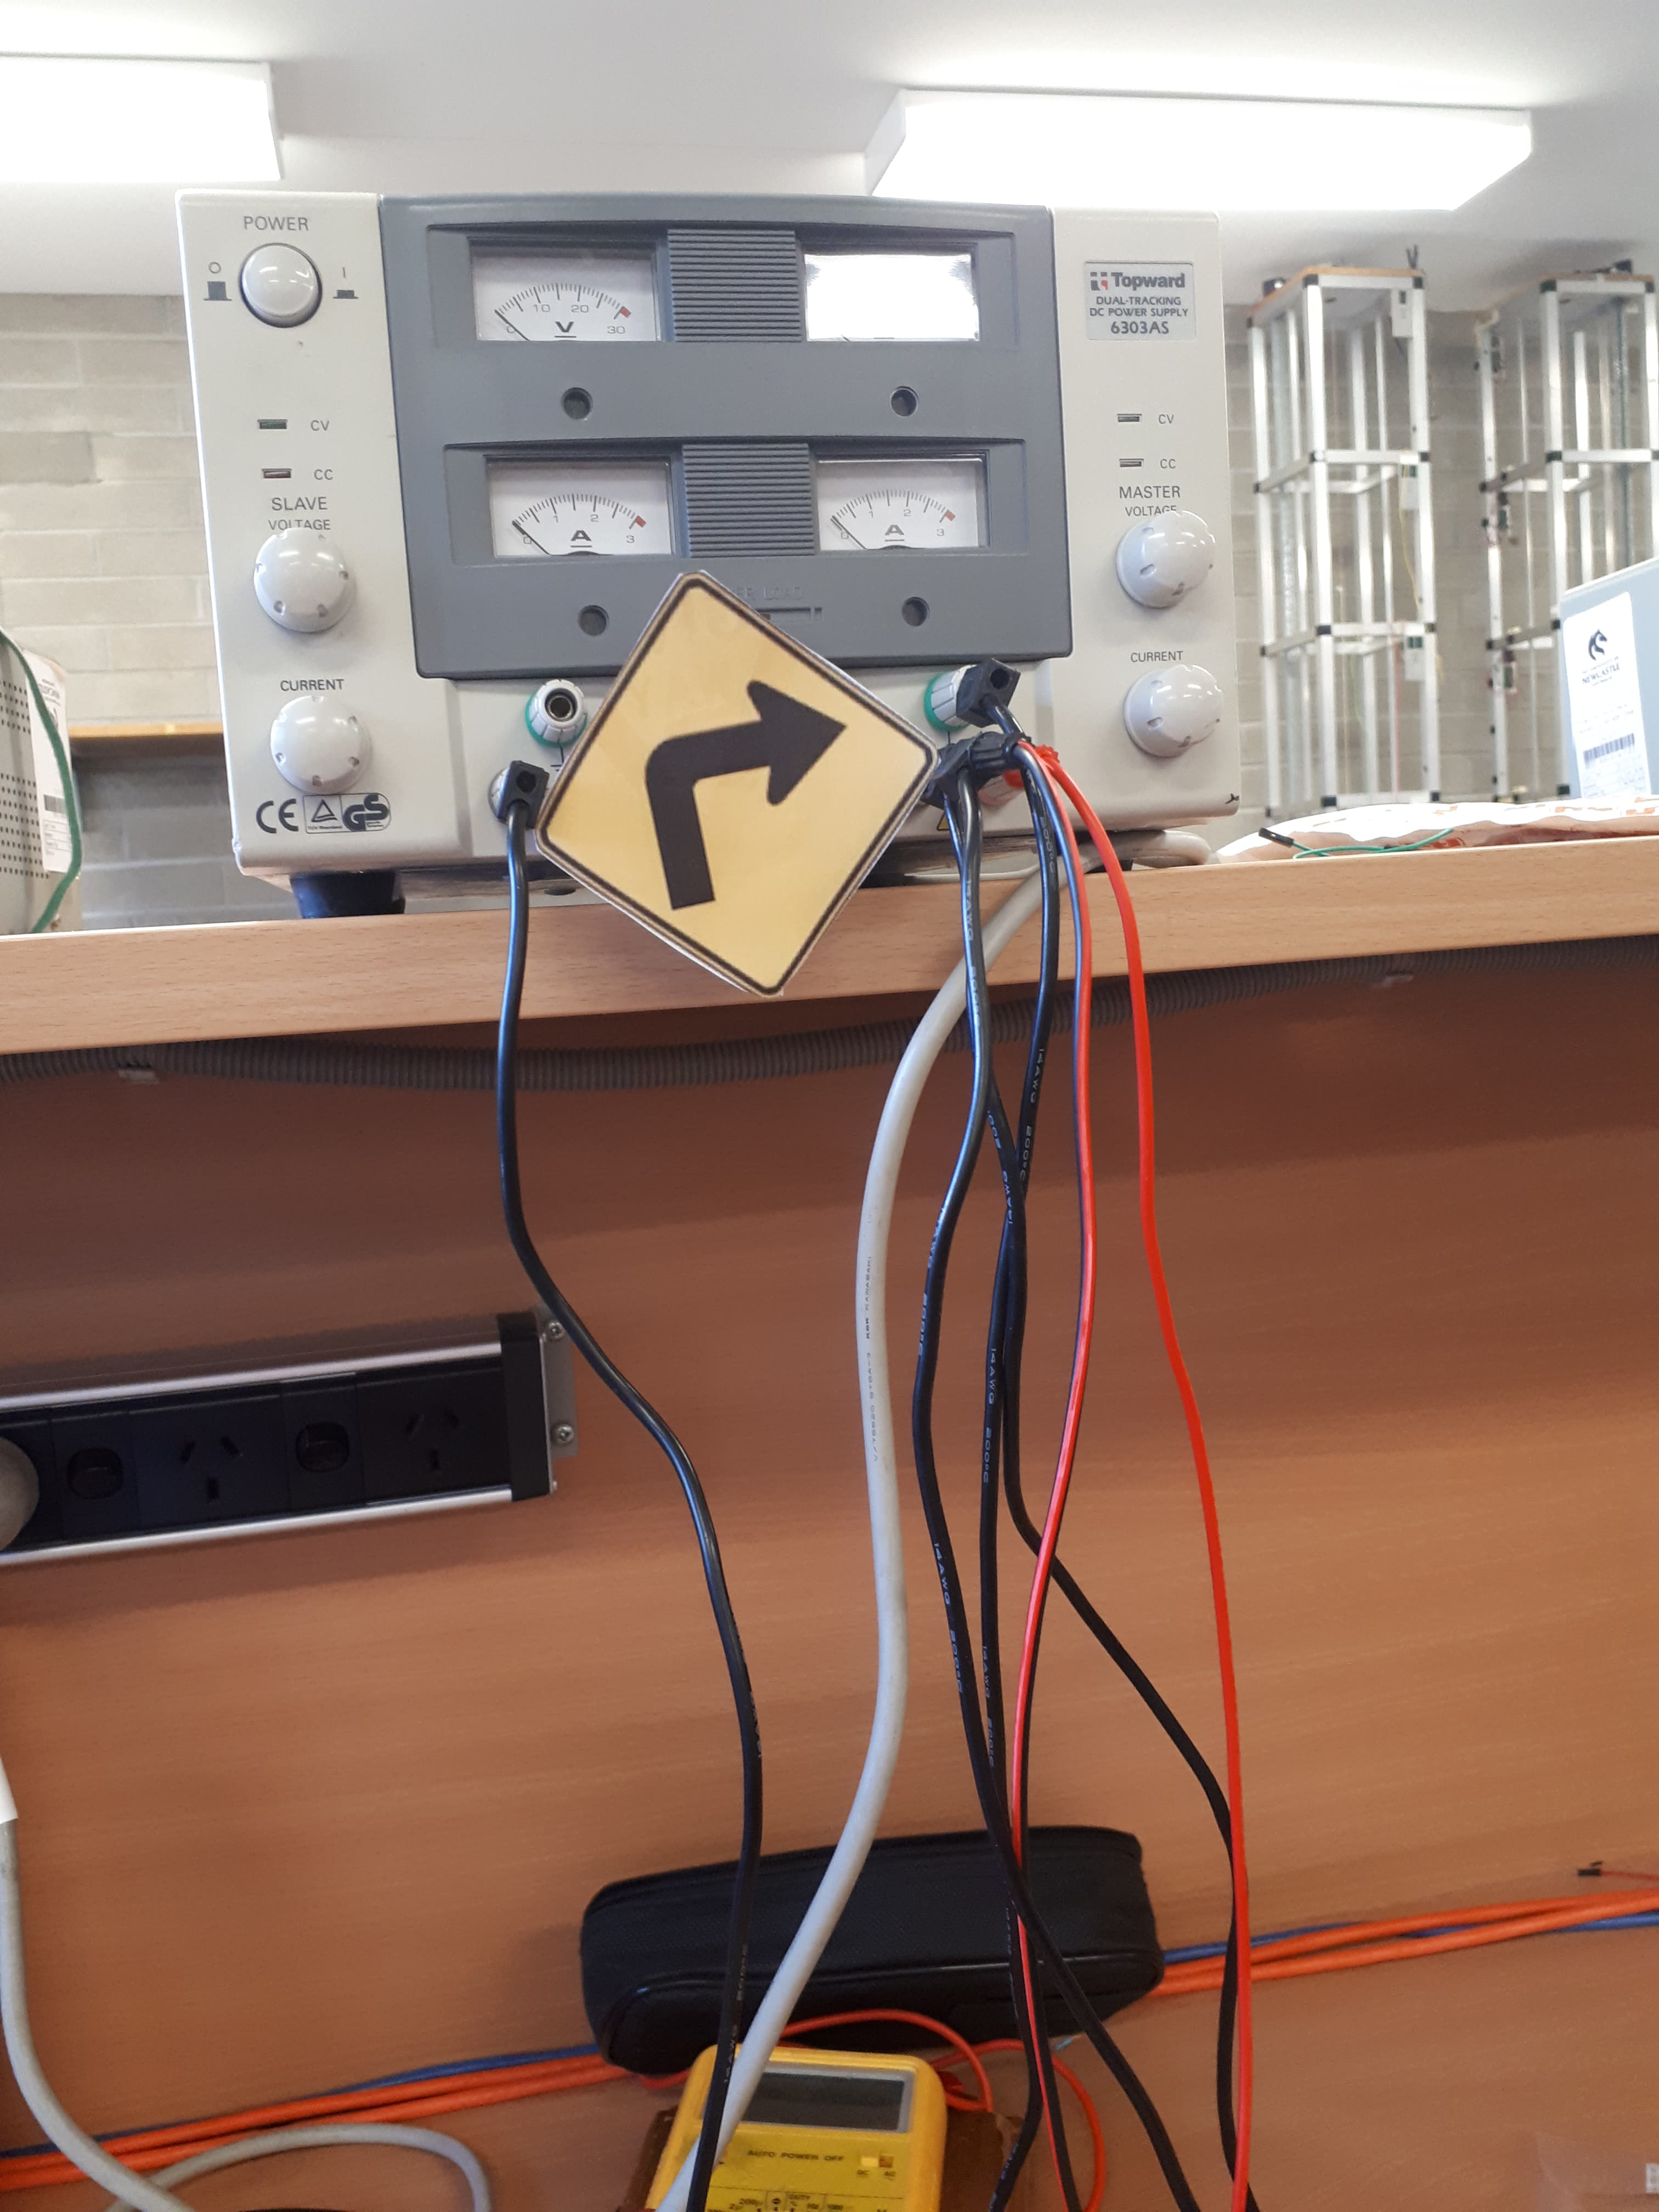right: (507, 543, 974, 1129), (716, 627, 967, 907), (598, 643, 897, 838)
